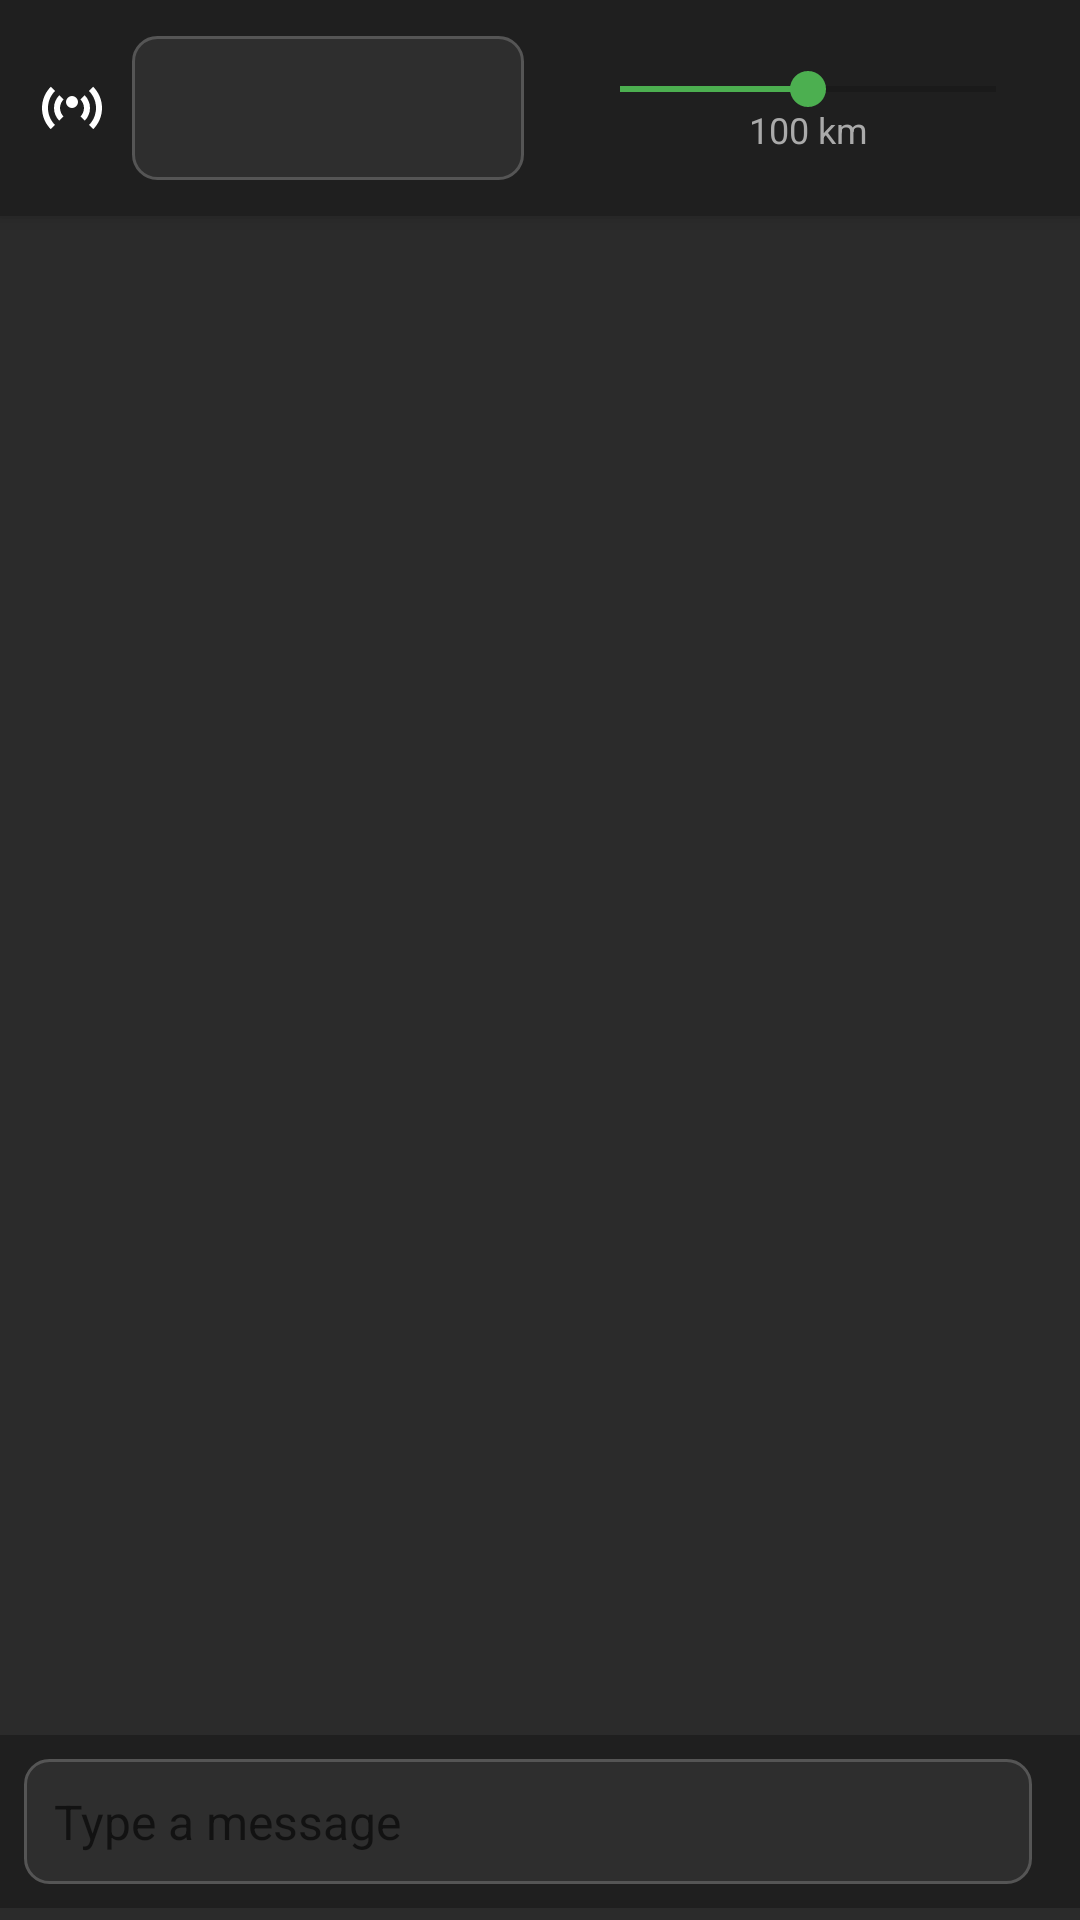

Where to tap for icons on this 1080*1920 app screen, as [x,y]:
Communication Mode: [72,108]
